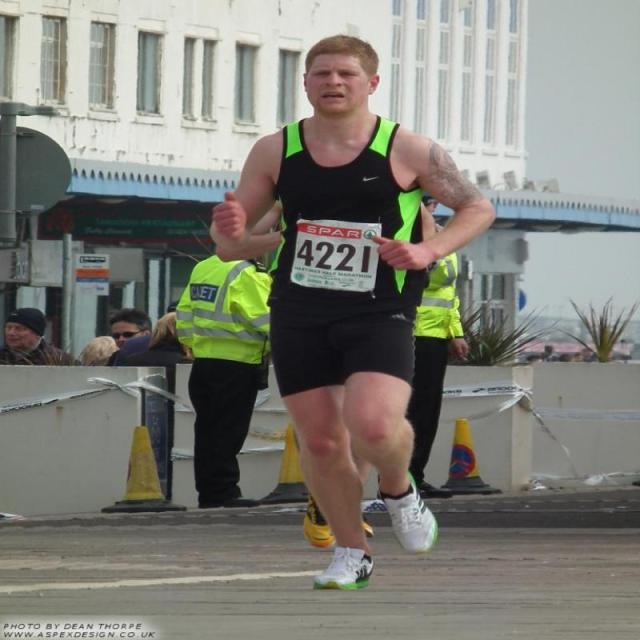dorsal: (281, 210, 392, 300)
